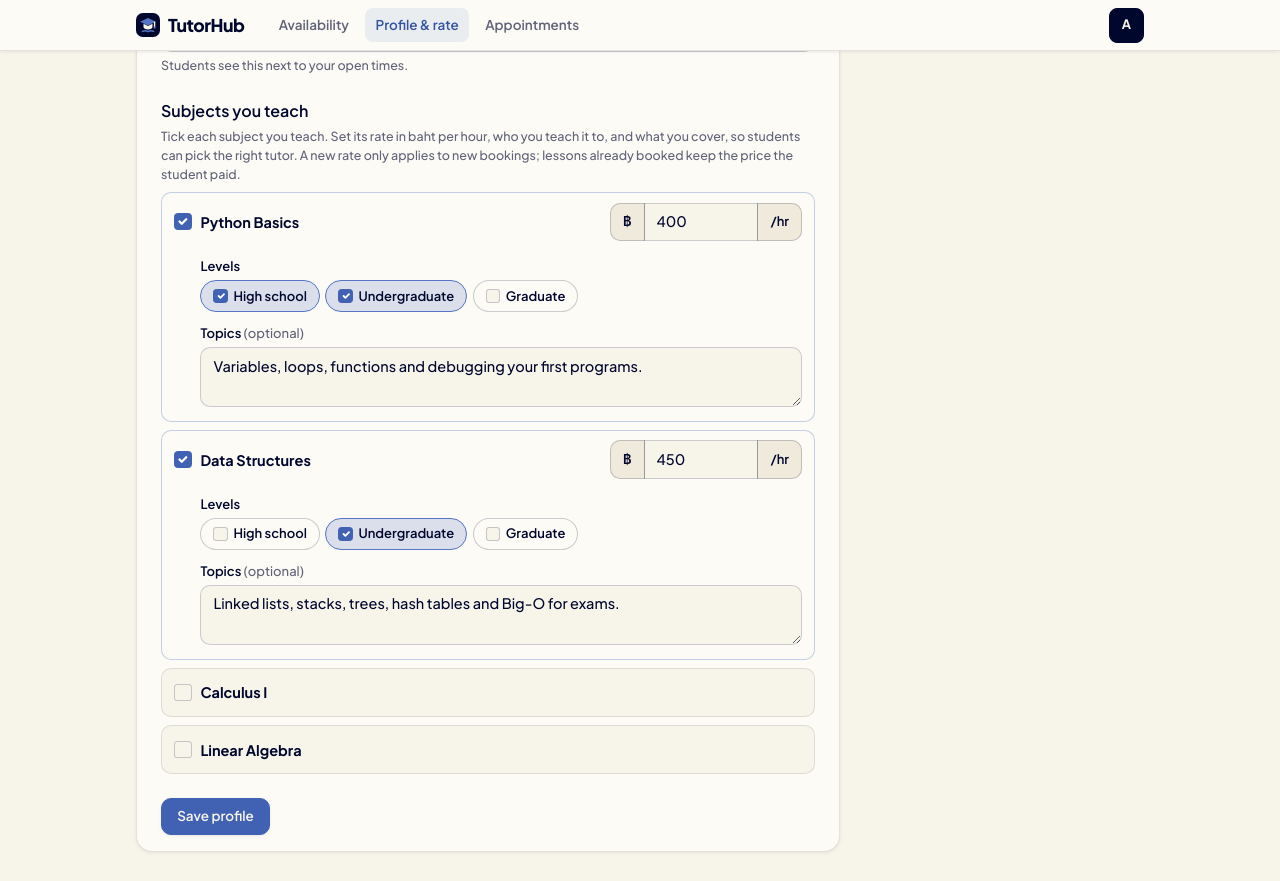
Test: tutor profile form › shows a rate field for each subject the tutor teaches, and adds one when a subject is ticked
(page scrolled)
Expected: the number field named "Rate for Python Basics" in the row of "Python Basics" holds "400", [644, 203, 758, 241]
Expected: the number field named "Rate for Data Structures" in the row of "Data Structures" holds "450", [644, 440, 758, 479]
Click the checkbox labelled "Linear Algebra": {"x": 183, "y": 750} [174, 741, 192, 758]
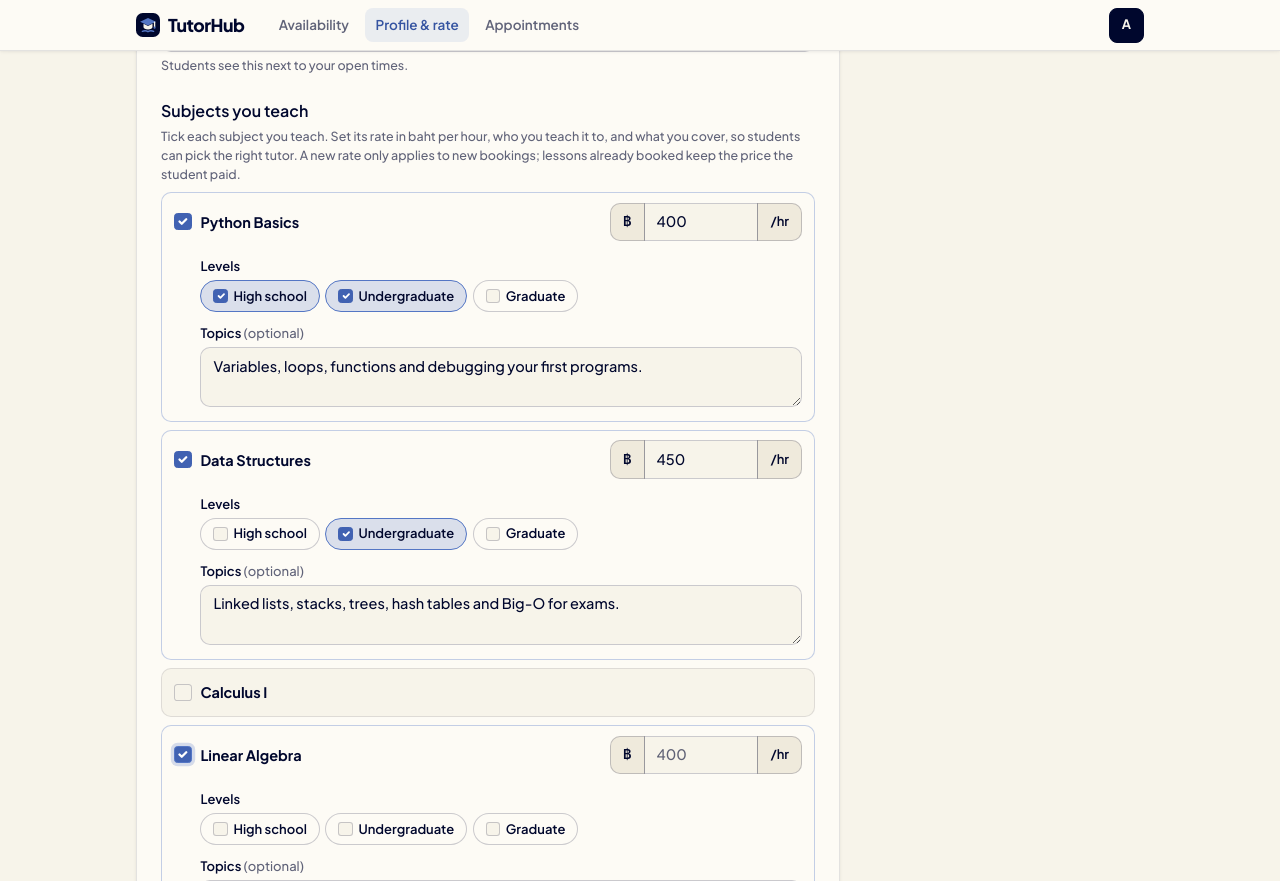
Expected: the number field named "Rate for Linear Algebra" is shown, [644, 736, 758, 774]
